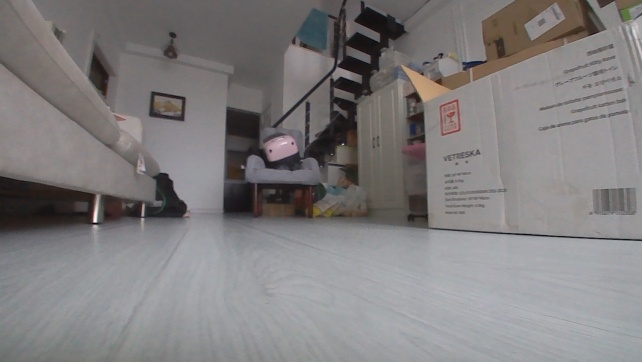sofa: (239, 124, 324, 218)
sofa1: (0, 0, 160, 235)
